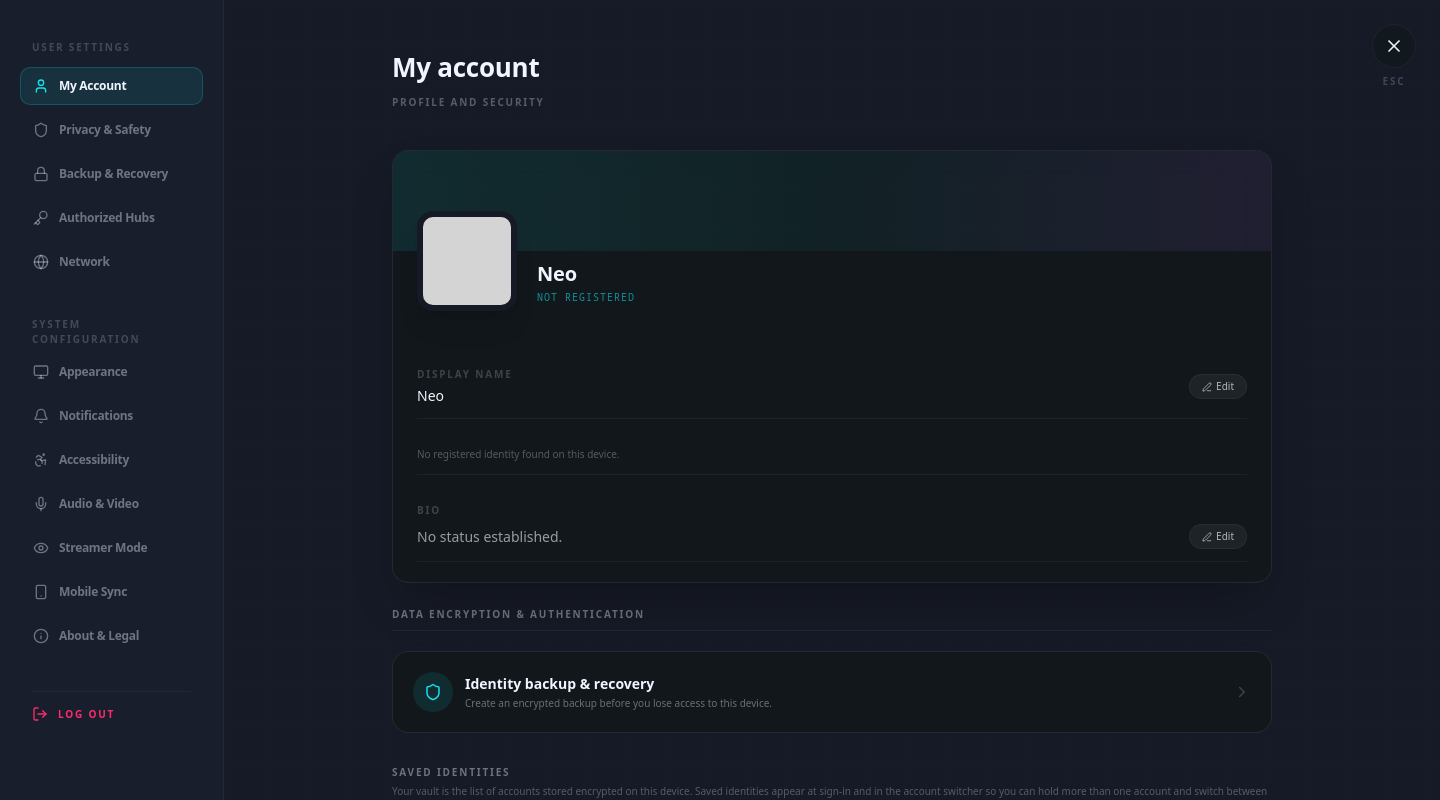
Test: SettingsScreen About & Legal › edits the profile inline instead of through a blocking window.prompt
Click the button "Edit" in the row of "Display Name".
click(1218, 386)  # box [1189,374,1247,399]
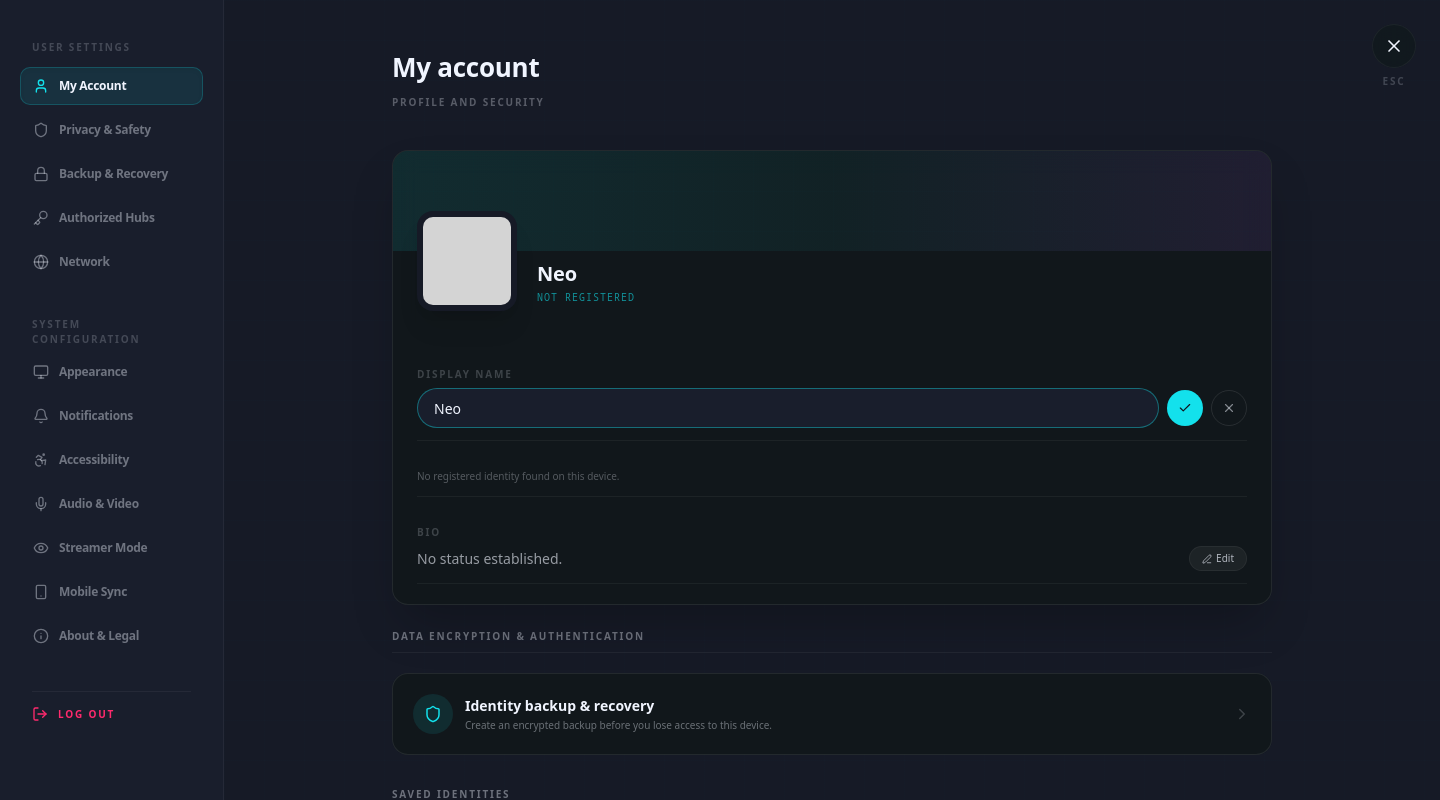
Now the field showing "Neo" is shown, box [417,388,1159,428]
